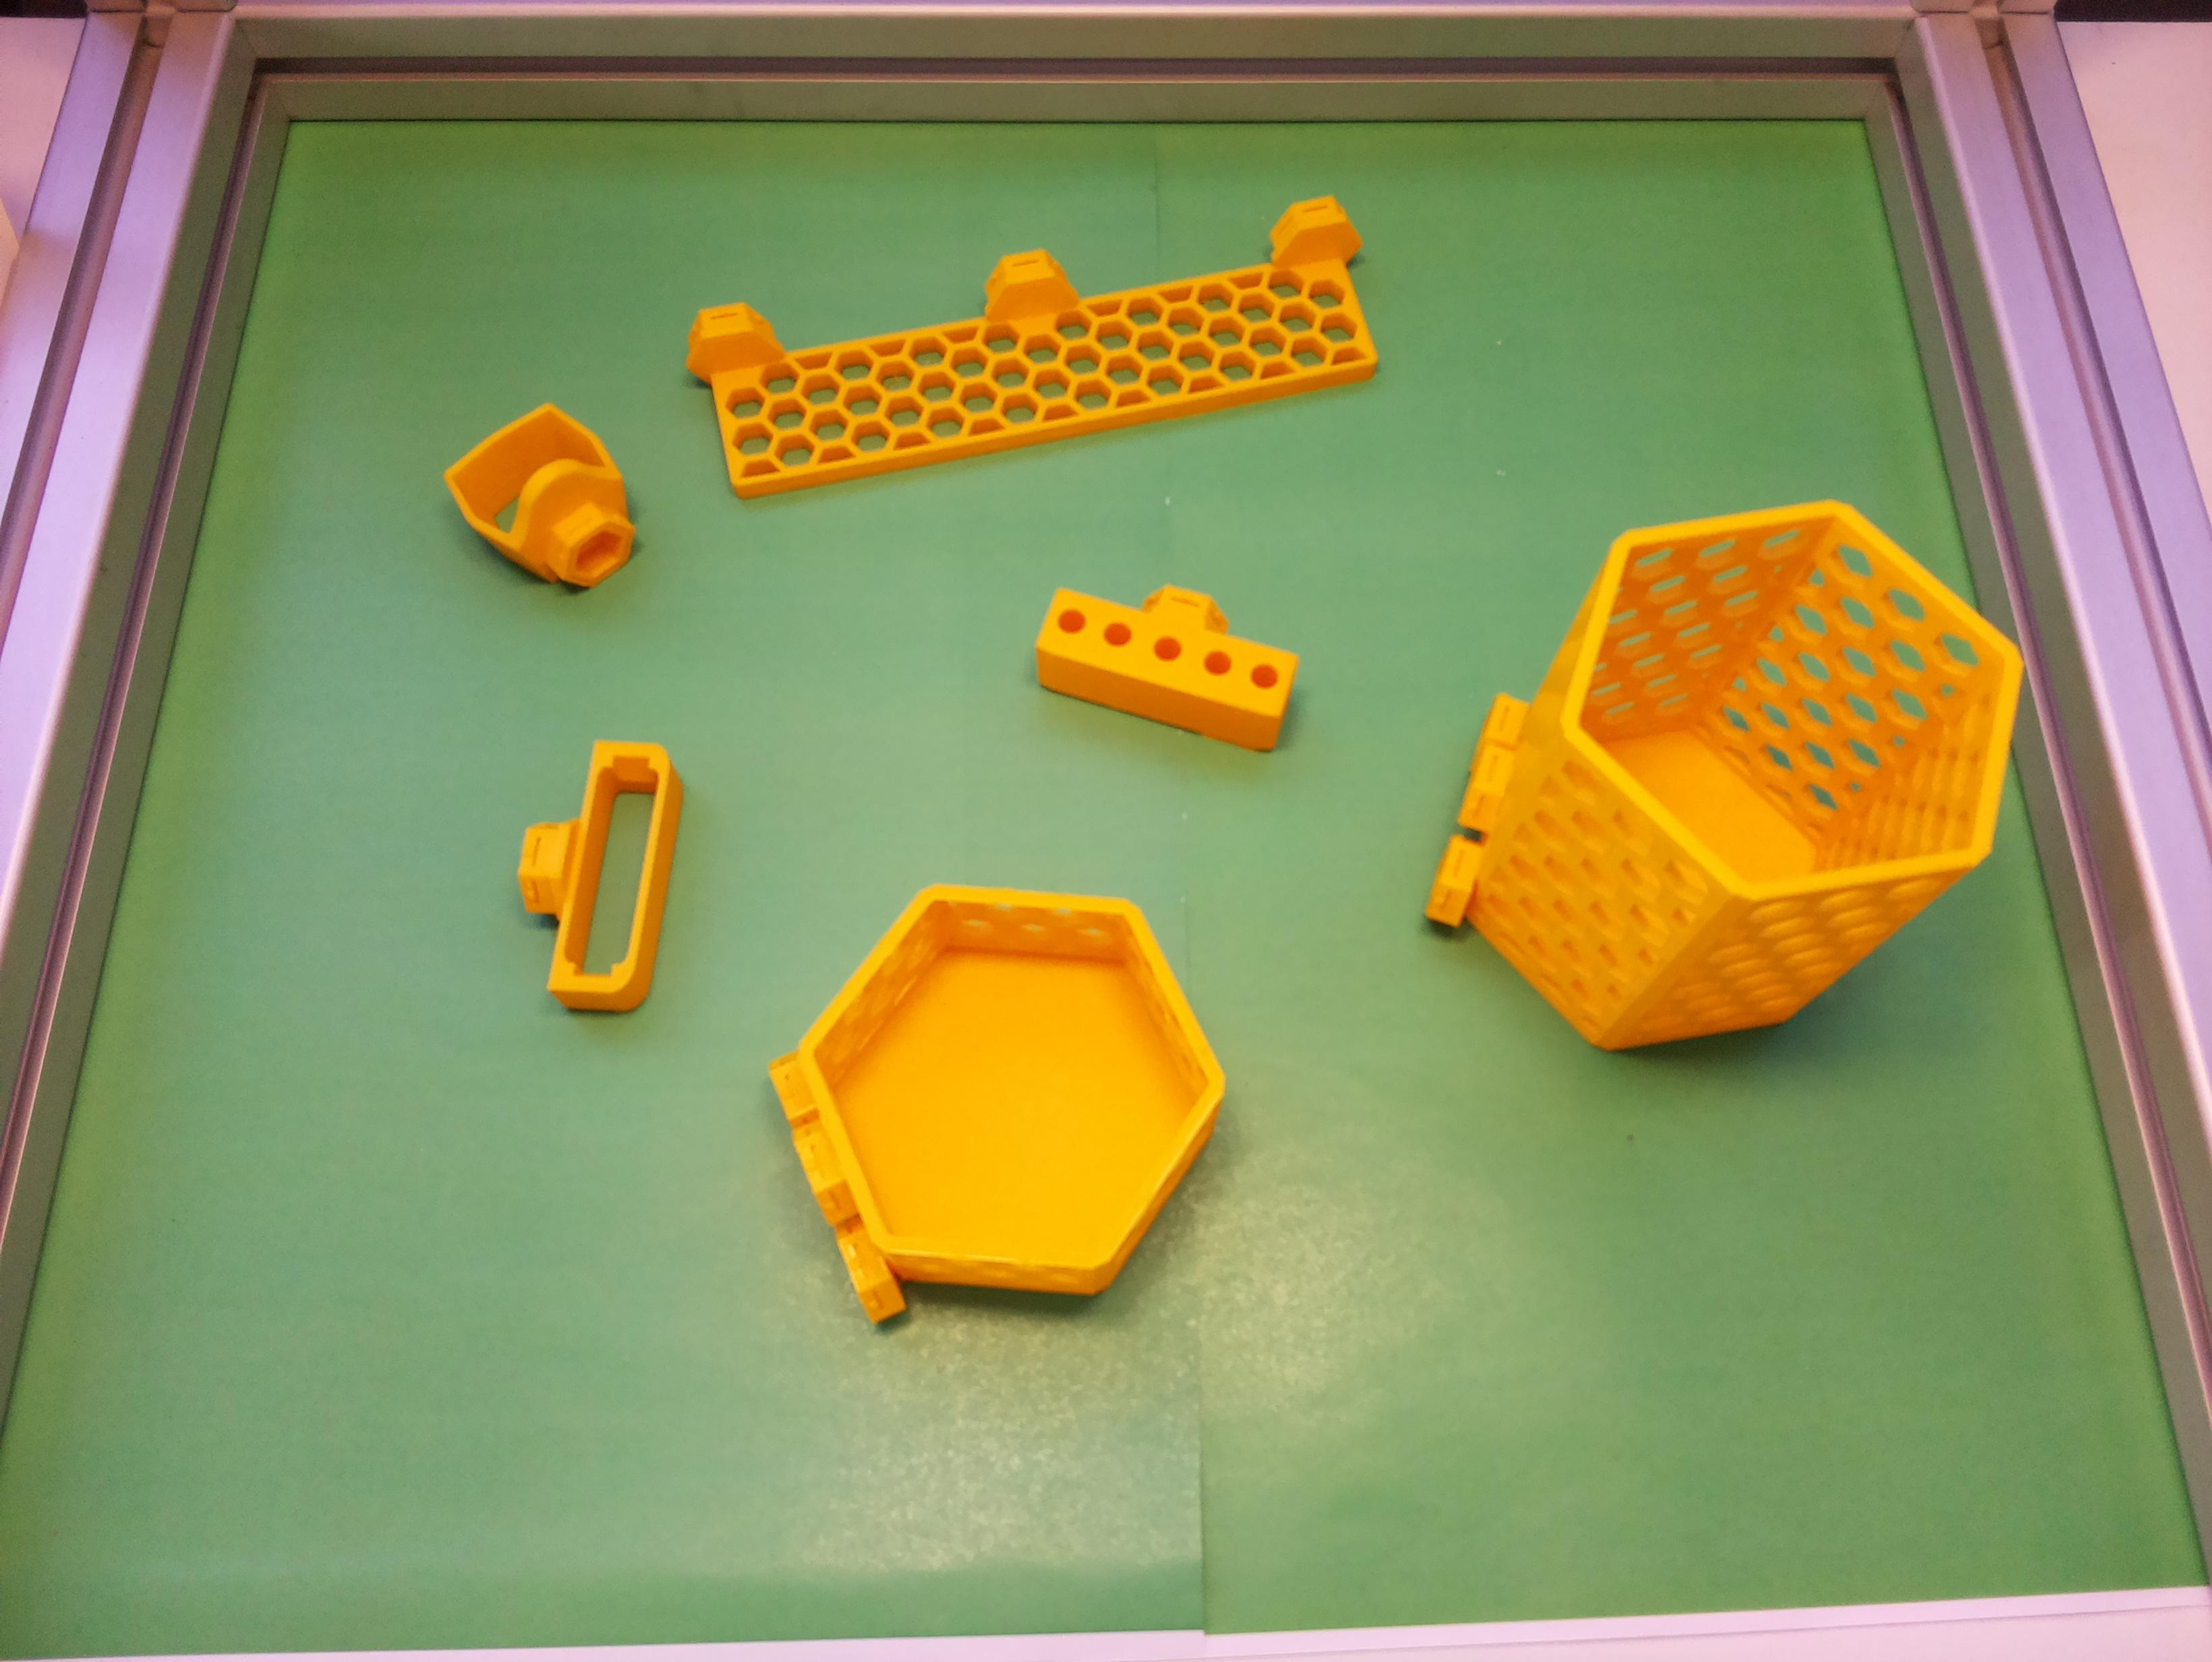bit_holder: (1025, 552, 1311, 756)
bottle_holder: (718, 810, 1283, 1383)
cup_holder: (1358, 407, 2102, 1166)
cutter_holder: (496, 725, 690, 1021)
scissor_holder: (435, 384, 670, 623)
tool_holder: (677, 192, 1386, 503)
